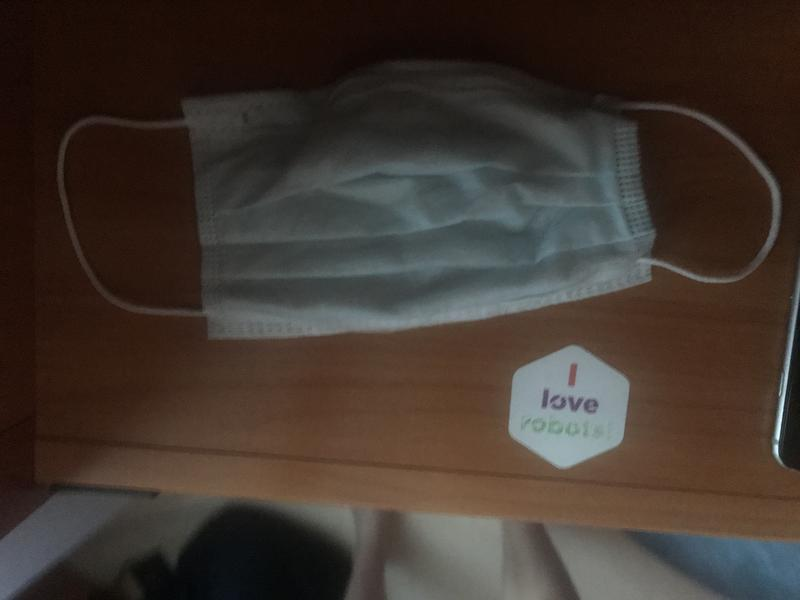medical_mask: (54, 63, 781, 339)
